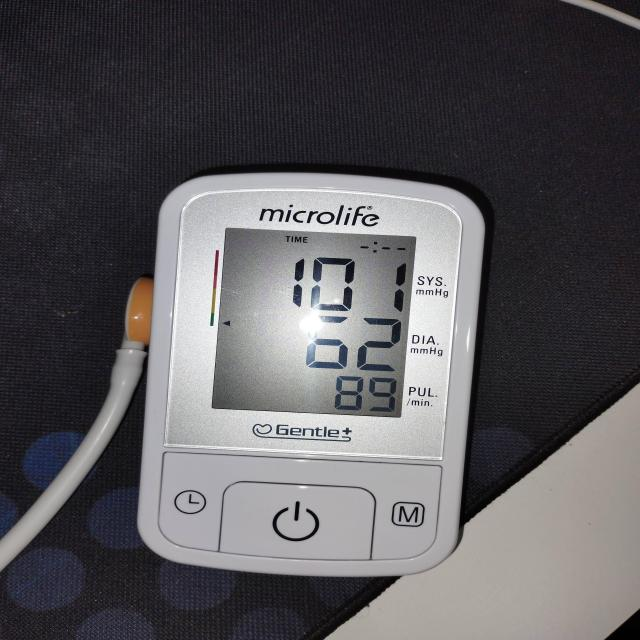bp: (136, 167, 494, 580)
